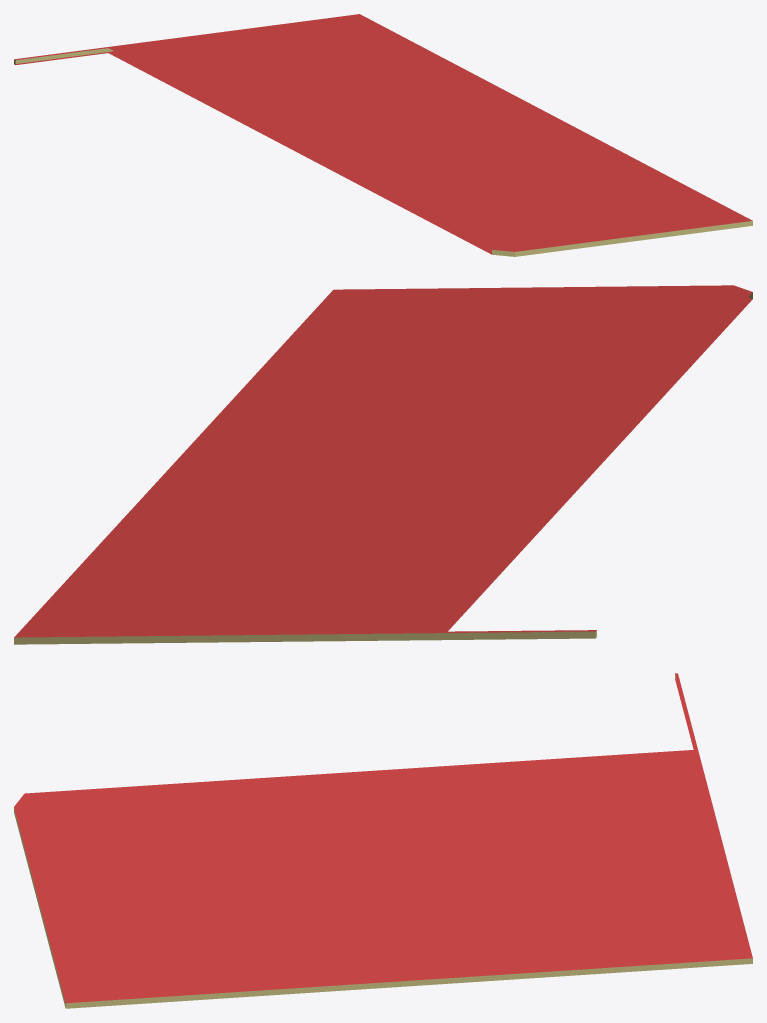
The picture shows the model from 3 angles, top to bottom: view 1: azimuth 30°, elevation 25°; view 2: azimuth 150°, elevation 25°; view 3: azimuth 270°, elevation 25°; orthographic projection. The views are drawn at different scales.
Bounding box in the file's own units: 9.64 × 12.04 × 1.54.
